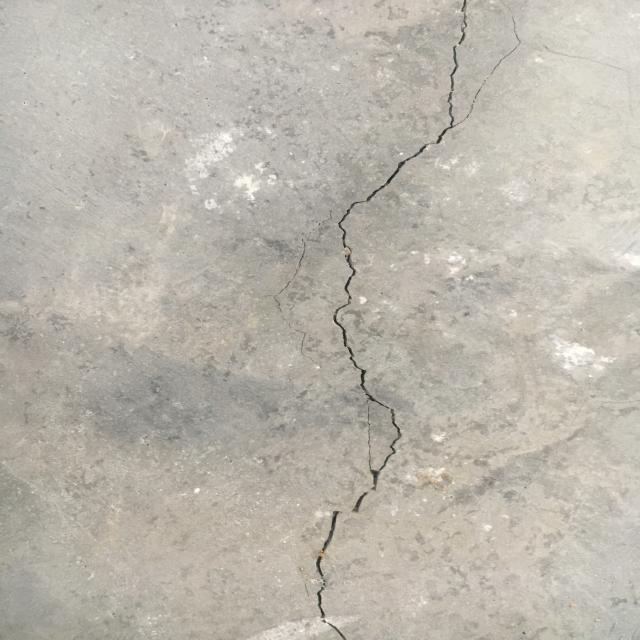Rachadura: (312, 0, 526, 640)
